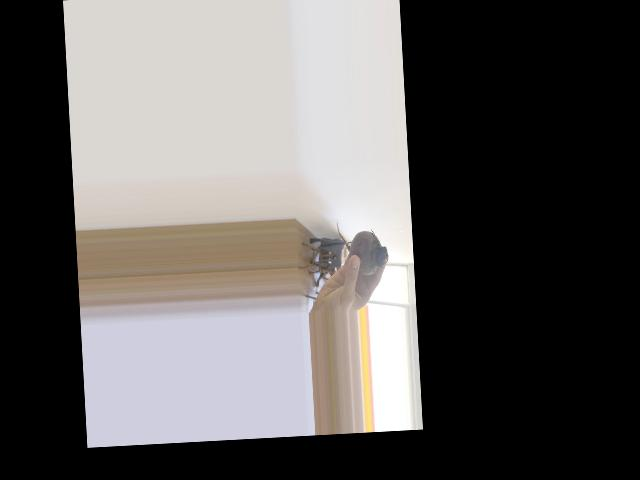beet: (336, 217, 389, 276)
